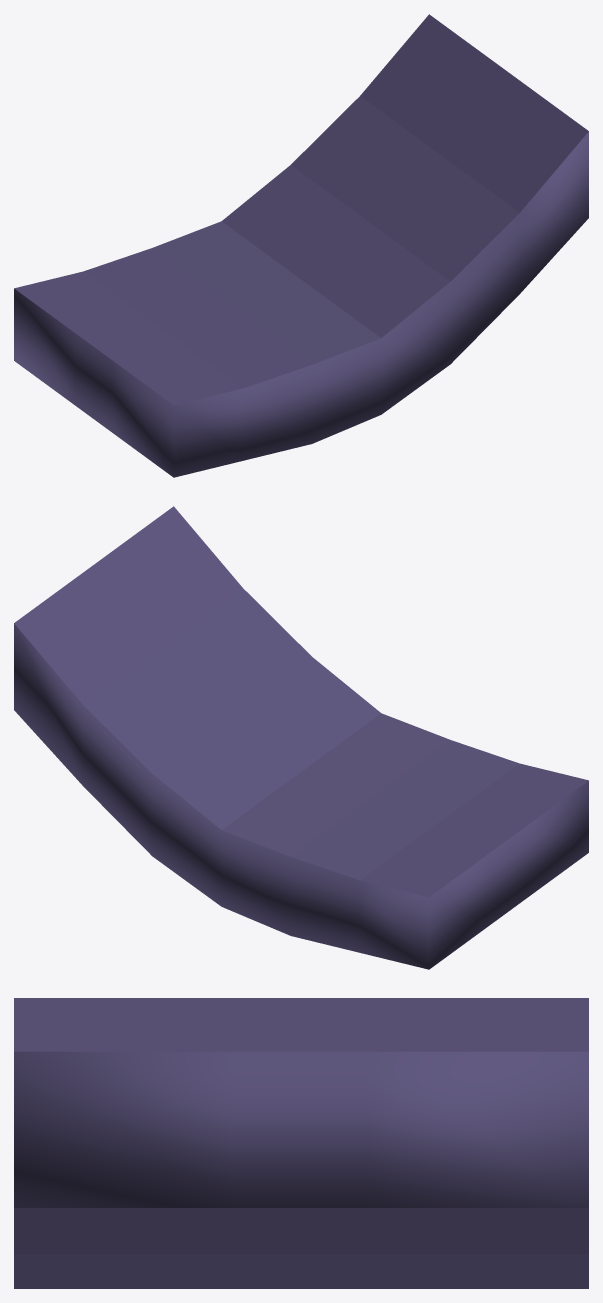
Rendered from road_rise_lower.obj.
The picture shows the model from 3 angles, top to bottom: view 1: azimuth 30°, elevation 25°; view 2: azimuth 150°, elevation 25°; view 3: azimuth 270°, elevation 25°; orthographic projection. The views are drawn at different scales.
Visible parts, largest first — view 1: Road.001_Cube.005; view 2: Road.001_Cube.005; view 3: Road.001_Cube.005.
Part boxes in pixels (x1,y1,x2,y2): Road.001_Cube.005: (14, 14, 588, 477); Road.001_Cube.005: (14, 506, 588, 969); Road.001_Cube.005: (14, 998, 588, 1288).
Bounding box in the file's own units: 6 × 3.39 × 4.
